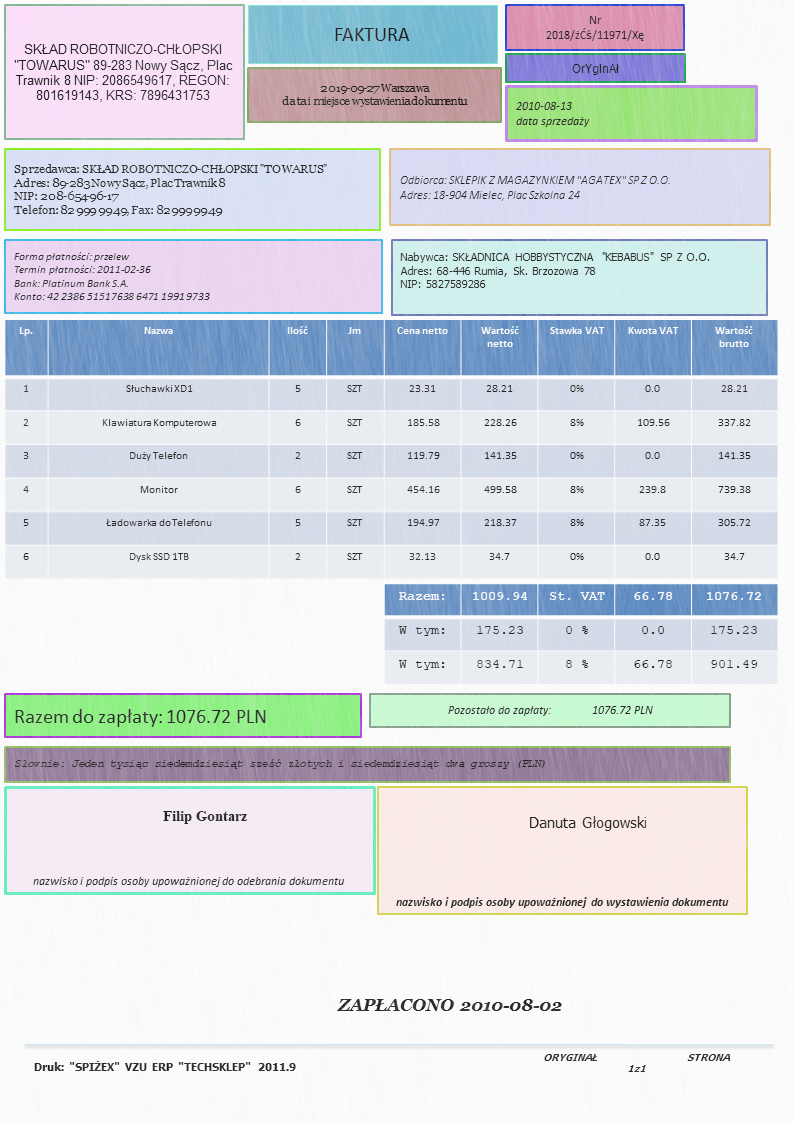Table: (3, 318, 777, 580), (383, 583, 780, 685)
TextBox: (10, 160, 329, 219), (11, 41, 235, 103), (397, 249, 714, 291), (11, 249, 212, 305), (397, 173, 673, 203), (12, 756, 546, 771), (13, 705, 268, 728), (279, 81, 472, 109), (393, 893, 730, 909), (332, 995, 565, 1016), (30, 874, 346, 889), (542, 1051, 734, 1075), (32, 1059, 299, 1075), (446, 702, 656, 718), (543, 14, 647, 44), (513, 98, 592, 129), (527, 814, 648, 834), (331, 24, 411, 46), (160, 807, 249, 825), (569, 59, 621, 77)
